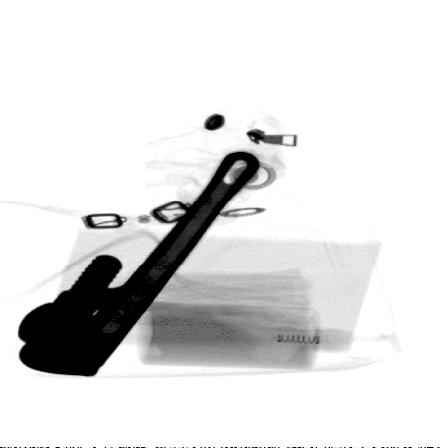Wrench: (15, 148, 263, 378)
